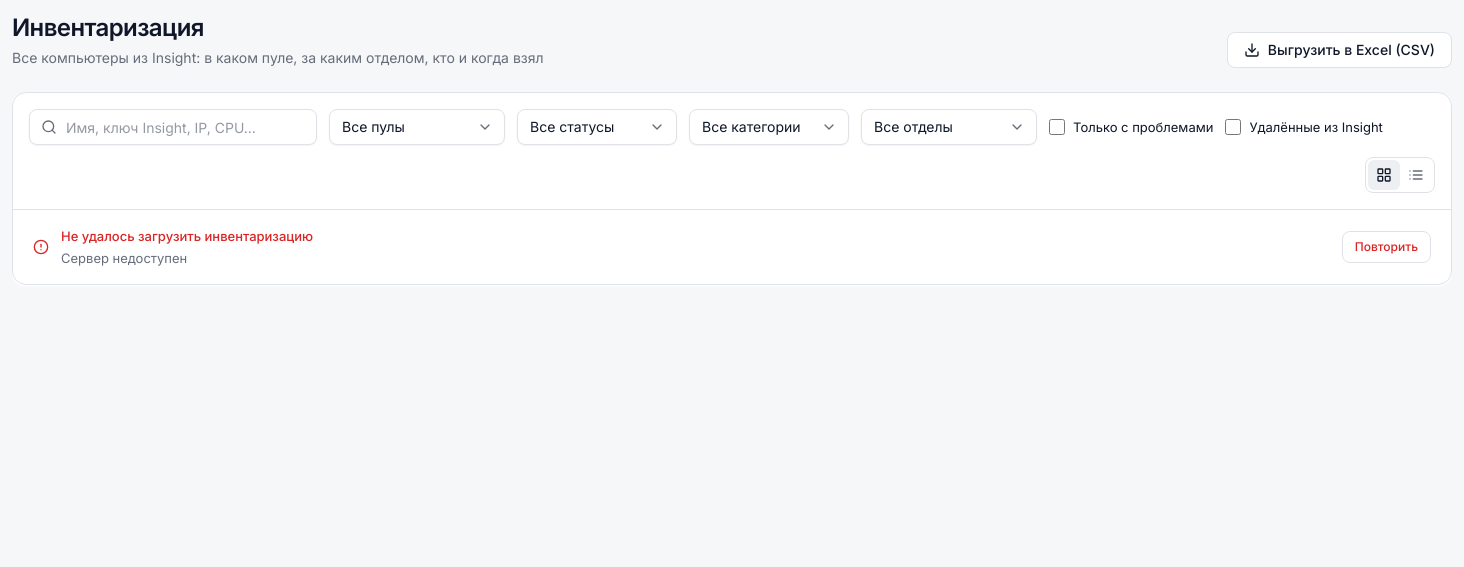
Scenario: InventoryPage › ошибка загрузки: текст ошибки и «Повторить» вместо «Ничего не найдено» и «0 записей»; повтор перезапрашивает
Expected: the text "Не удалось загрузить инвентаризацию" is shown, [61,226,313,246]
Expected: the text "Сервер недоступен" is shown, [61,250,187,266]
Click the button "Повторить".
click(1386, 247)  # box [1342,231,1431,263]
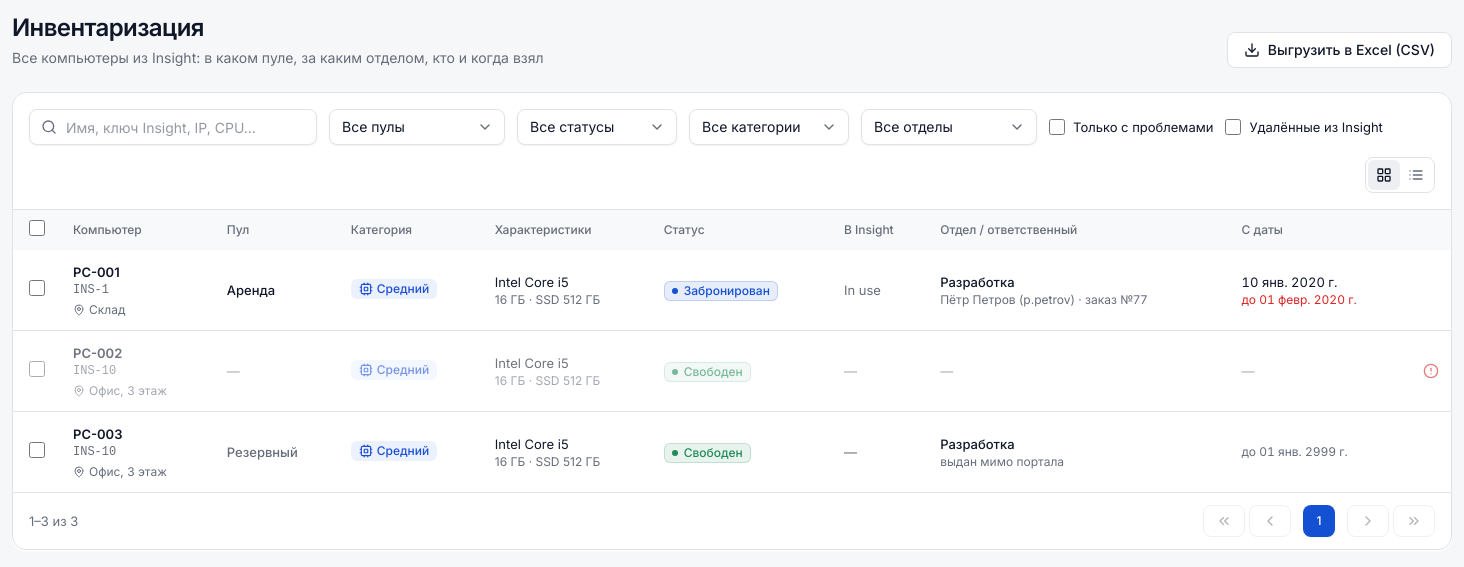
Expected: the button "PC-001" is shown, [73,262,120,282]
Expected: the message "Не удалось загрузить инвентаризацию Сервер недоступен Повторить" is gone
